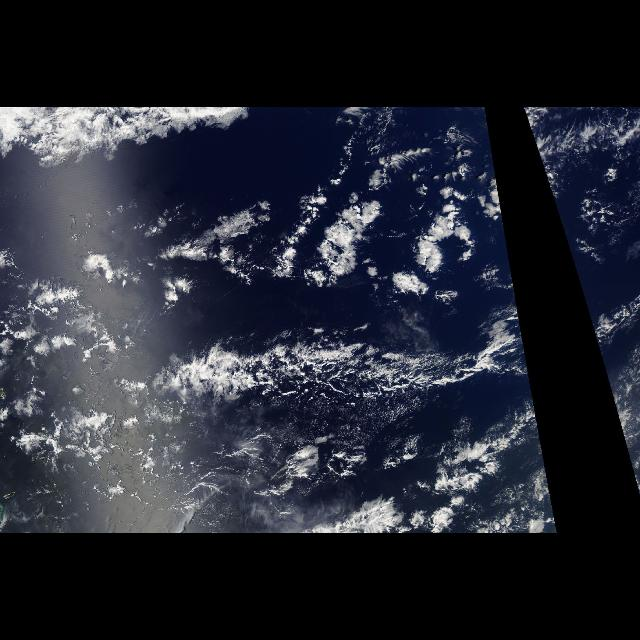Fish: (142, 346, 488, 410)
Flower: (176, 146, 494, 308)
